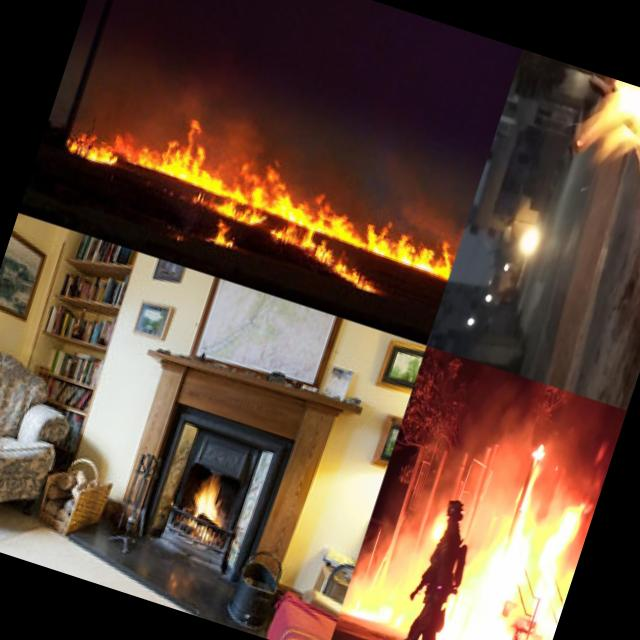fire: (54, 80, 473, 323), (514, 78, 640, 411), (509, 489, 597, 640), (446, 517, 542, 640), (180, 458, 238, 532), (338, 588, 409, 638), (423, 500, 456, 550), (492, 624, 552, 640)
smoke: (442, 360, 627, 502), (358, 441, 452, 604)
